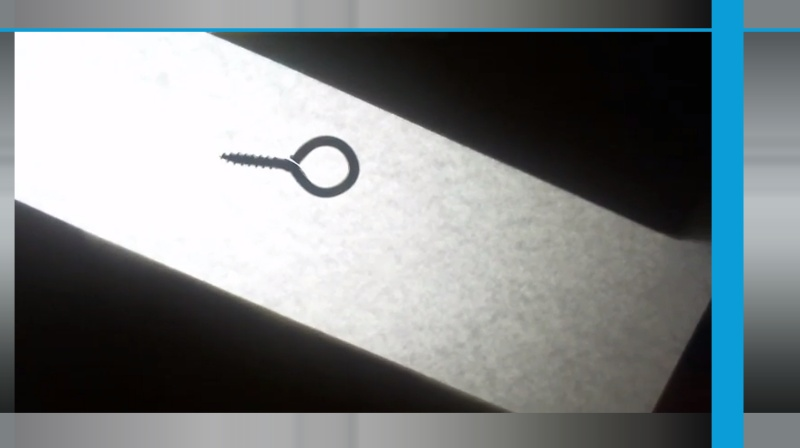O001: (215, 132, 366, 199)
